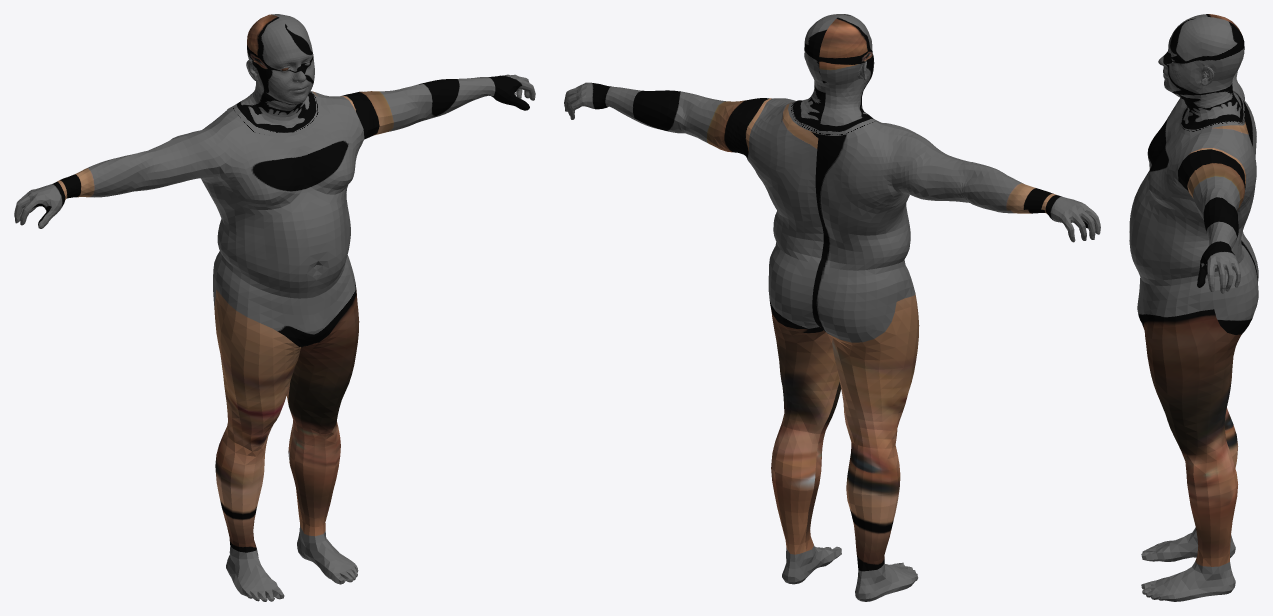
Rendered from normal_model.obj.
3 views of the same model, side by side, from view 1: azimuth 30°, elevation 25°; view 2: azimuth 150°, elevation 25°; view 3: azimuth 270°, elevation 25° (orthographic). The views are drawn at different scales.
Size of the model in its own units: 1.63 by 1.66 by 0.3482.
